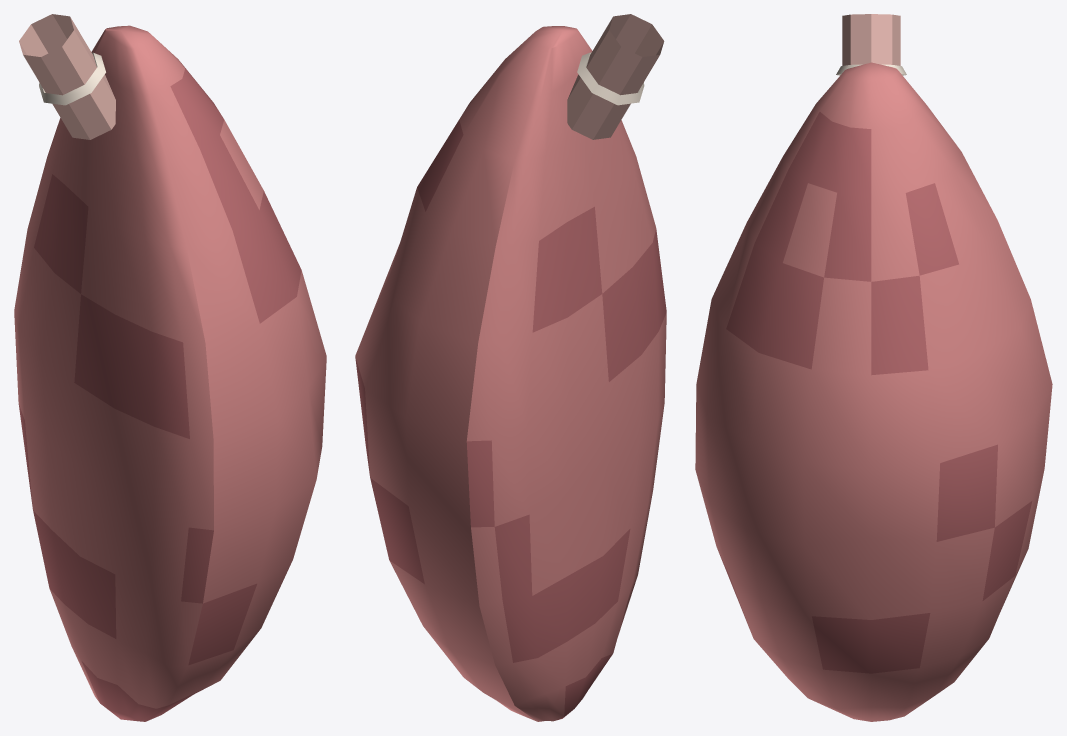
The model's file is organ_lung_L.glb.
3 renders of one model, left to right at view 1: azimuth 30°, elevation 25°; view 2: azimuth 150°, elevation 25°; view 3: azimuth 270°, elevation 25°, orthographic. The views are drawn at different scales.
Visible parts, largest first — view 1: organ_lung_L; view 2: organ_lung_L; view 3: organ_lung_L.
Part boxes in pixels (box(x1,y1,x2,y2)): organ_lung_L: box(14, 14, 326, 721); organ_lung_L: box(355, 14, 666, 721); organ_lung_L: box(695, 14, 1052, 721).
Bounding box in the file's own units: 0.0688 × 0.1657 × 0.0794.
